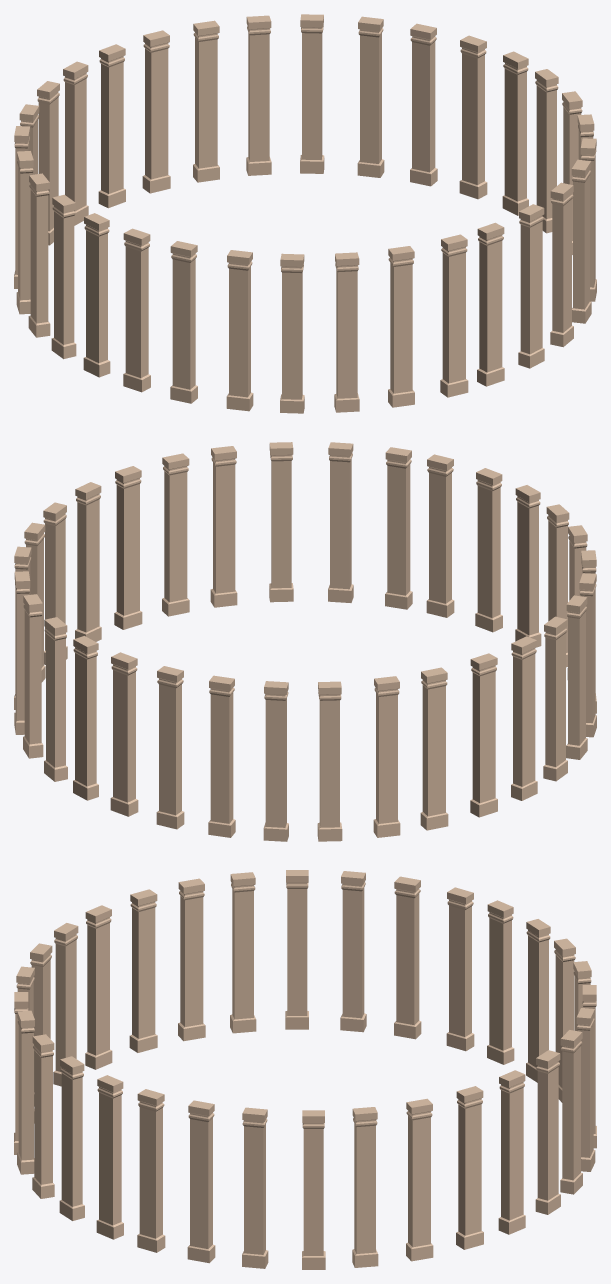
Rendered from BC_TopPillar_C.fbx.
3 views of the same model, one above another, from view 1: azimuth 30°, elevation 25°; view 2: azimuth 150°, elevation 25°; view 3: azimuth 270°, elevation 25° (orthographic).
Parts seen in each view (by area): view 1: BC_TopPillar_C; view 2: BC_TopPillar_C; view 3: BC_TopPillar_C.
Boxes of the visible parts, x1,y1,x2,y2 form: BC_TopPillar_C: (14, 14, 596, 413); BC_TopPillar_C: (14, 442, 596, 841); BC_TopPillar_C: (14, 870, 596, 1269).
Bounding box in the file's own units: 2751 × 799 × 2751.
